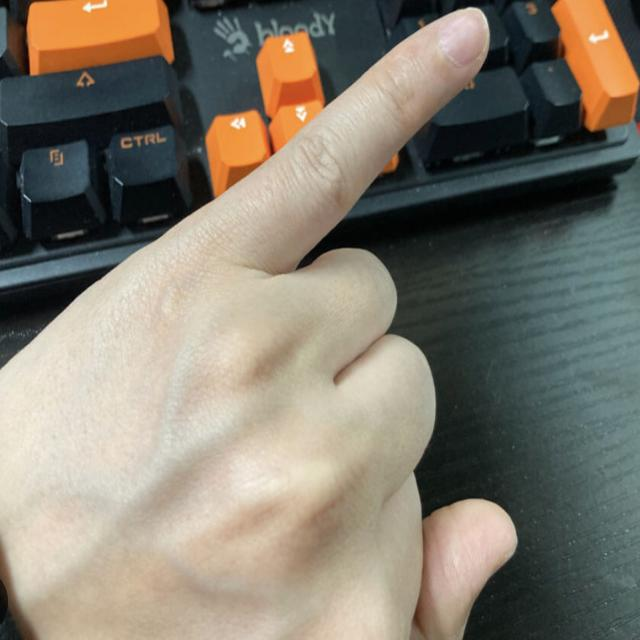pinky: (213, 0, 500, 266)
